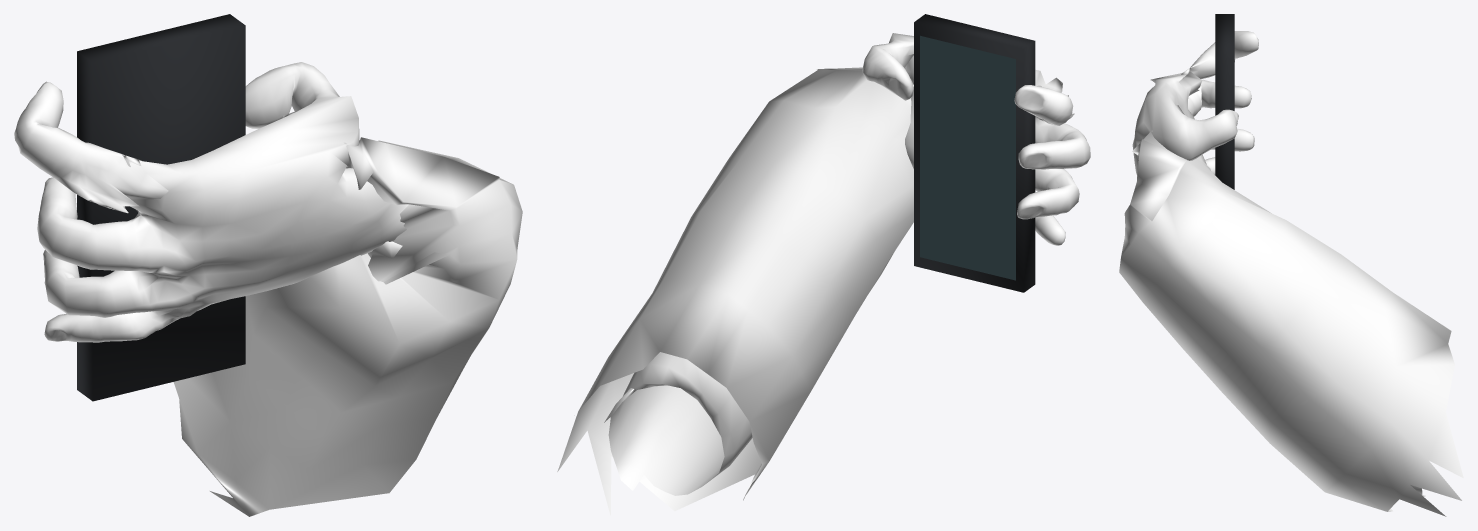
File: RakaPhoneHand.fbx
3 renders of one model, left to right at view 1: azimuth 30°, elevation 25°; view 2: azimuth 150°, elevation 25°; view 3: azimuth 270°, elevation 25°, orthographic. The views are drawn at different scales.
Parts seen in each view (by area): view 1: PhoneHand_RakaJacketOutfit, PhoneHand_VisibleSkin, PhoneHand_HandheldPhone; view 2: PhoneHand_RakaJacketOutfit, PhoneHand_VisibleSkin, PhoneHand_HandsetScreen, PhoneHand_HandheldPhone; view 3: PhoneHand_RakaJacketOutfit, PhoneHand_VisibleSkin, PhoneHand_HandheldPhone.
Part boxes in pixels (x1,y1,x2,y2): PhoneHand_RakaJacketOutfit: (173,137,522,516); PhoneHand_VisibleSkin: (14,62,408,342); PhoneHand_HandheldPhone: (77,14,245,401); PhoneHand_RakaJacketOutfit: (557,67,913,515); PhoneHand_VisibleSkin: (604,33,1090,495); PhoneHand_HandsetScreen: (920,35,1015,280); PhoneHand_HandheldPhone: (914,14,1035,292); PhoneHand_RakaJacketOutfit: (1119,130,1463,516); PhoneHand_VisibleSkin: (1132,31,1425,496); PhoneHand_HandheldPhone: (1215,14,1234,189).
Bounding box in the file's own units: 27.12 × 30.93 × 24.76.
